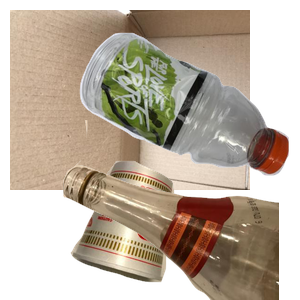cardboard: (10, 10, 250, 190)
glass: (60, 120, 300, 300)
plastic: (77, 30, 300, 198)
trash: (68, 158, 235, 300)
